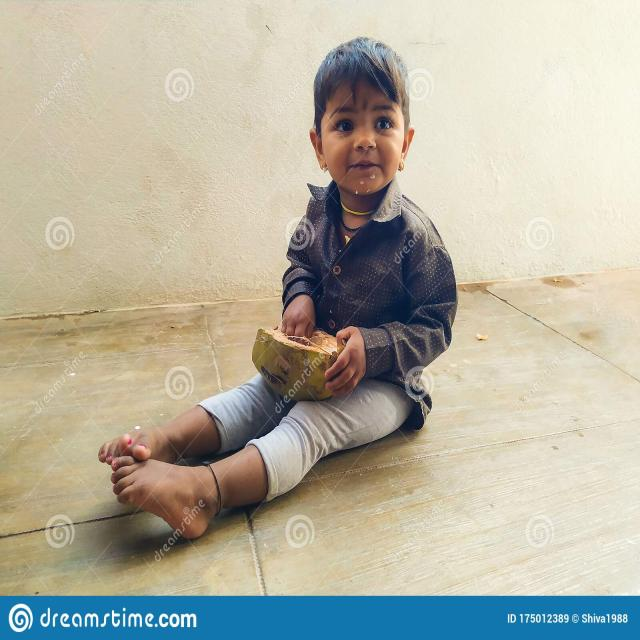child: (84, 11, 464, 560)
